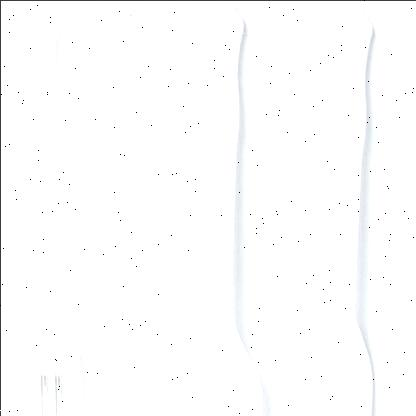Others: (183, 1, 373, 415)
